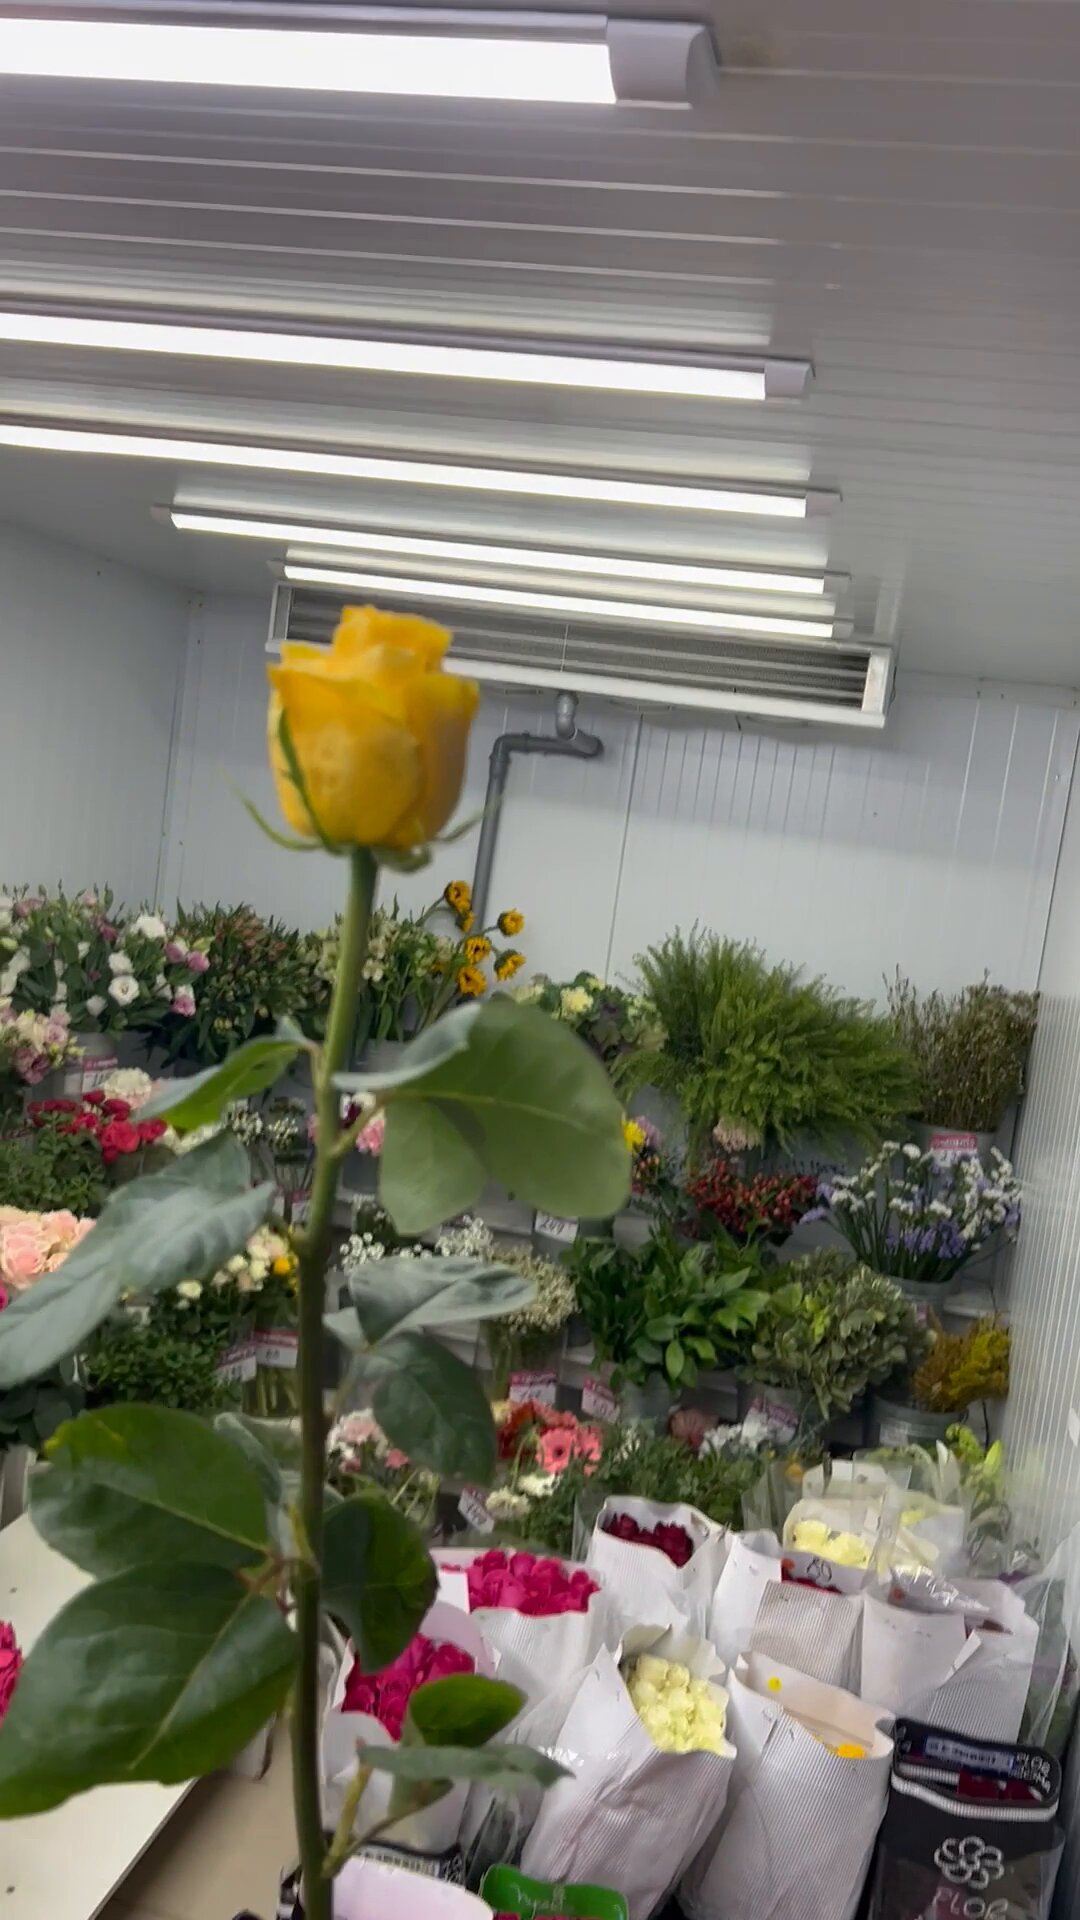rose: (69, 575, 621, 1916)
